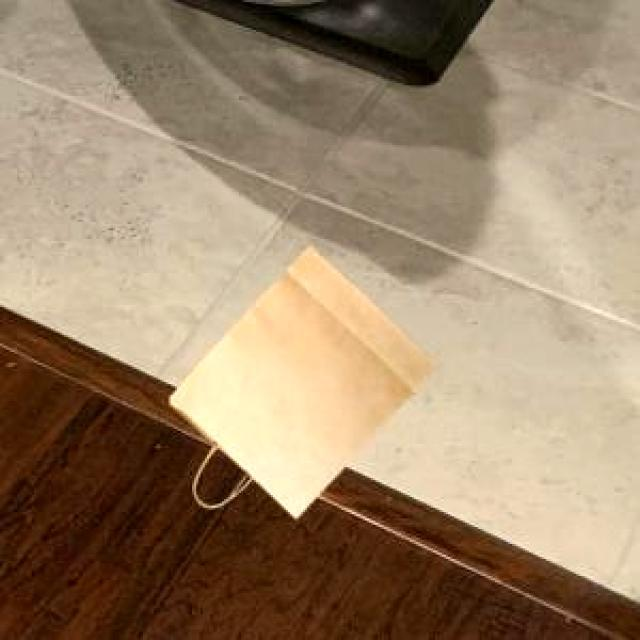Paper_Bag: (168, 244, 434, 515)
